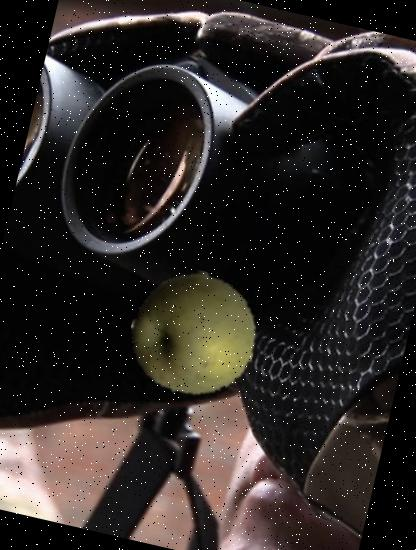Apple: (119, 259, 269, 409)
